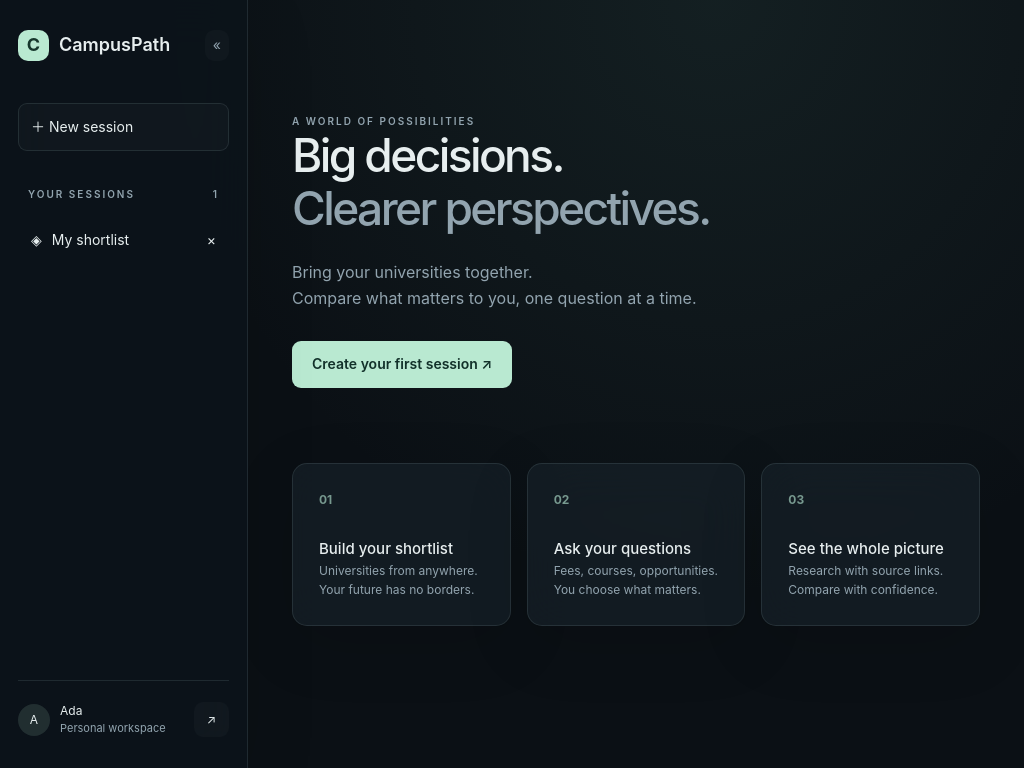
Test case: session deletion › confirms in-app instead of using a browser popup
Click the button named "Delete My shortlist".
click(211, 241)  # box [194,221,229,260]
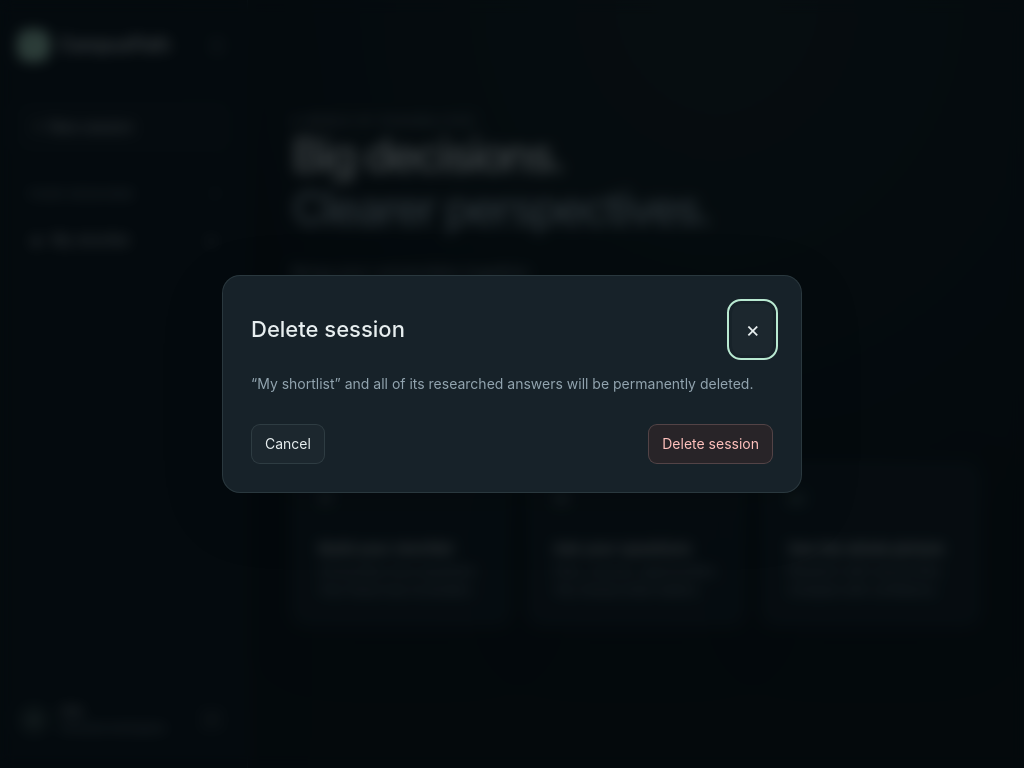
Result: the text "will be permanently deleted" is shown at [251,375,753,392]
